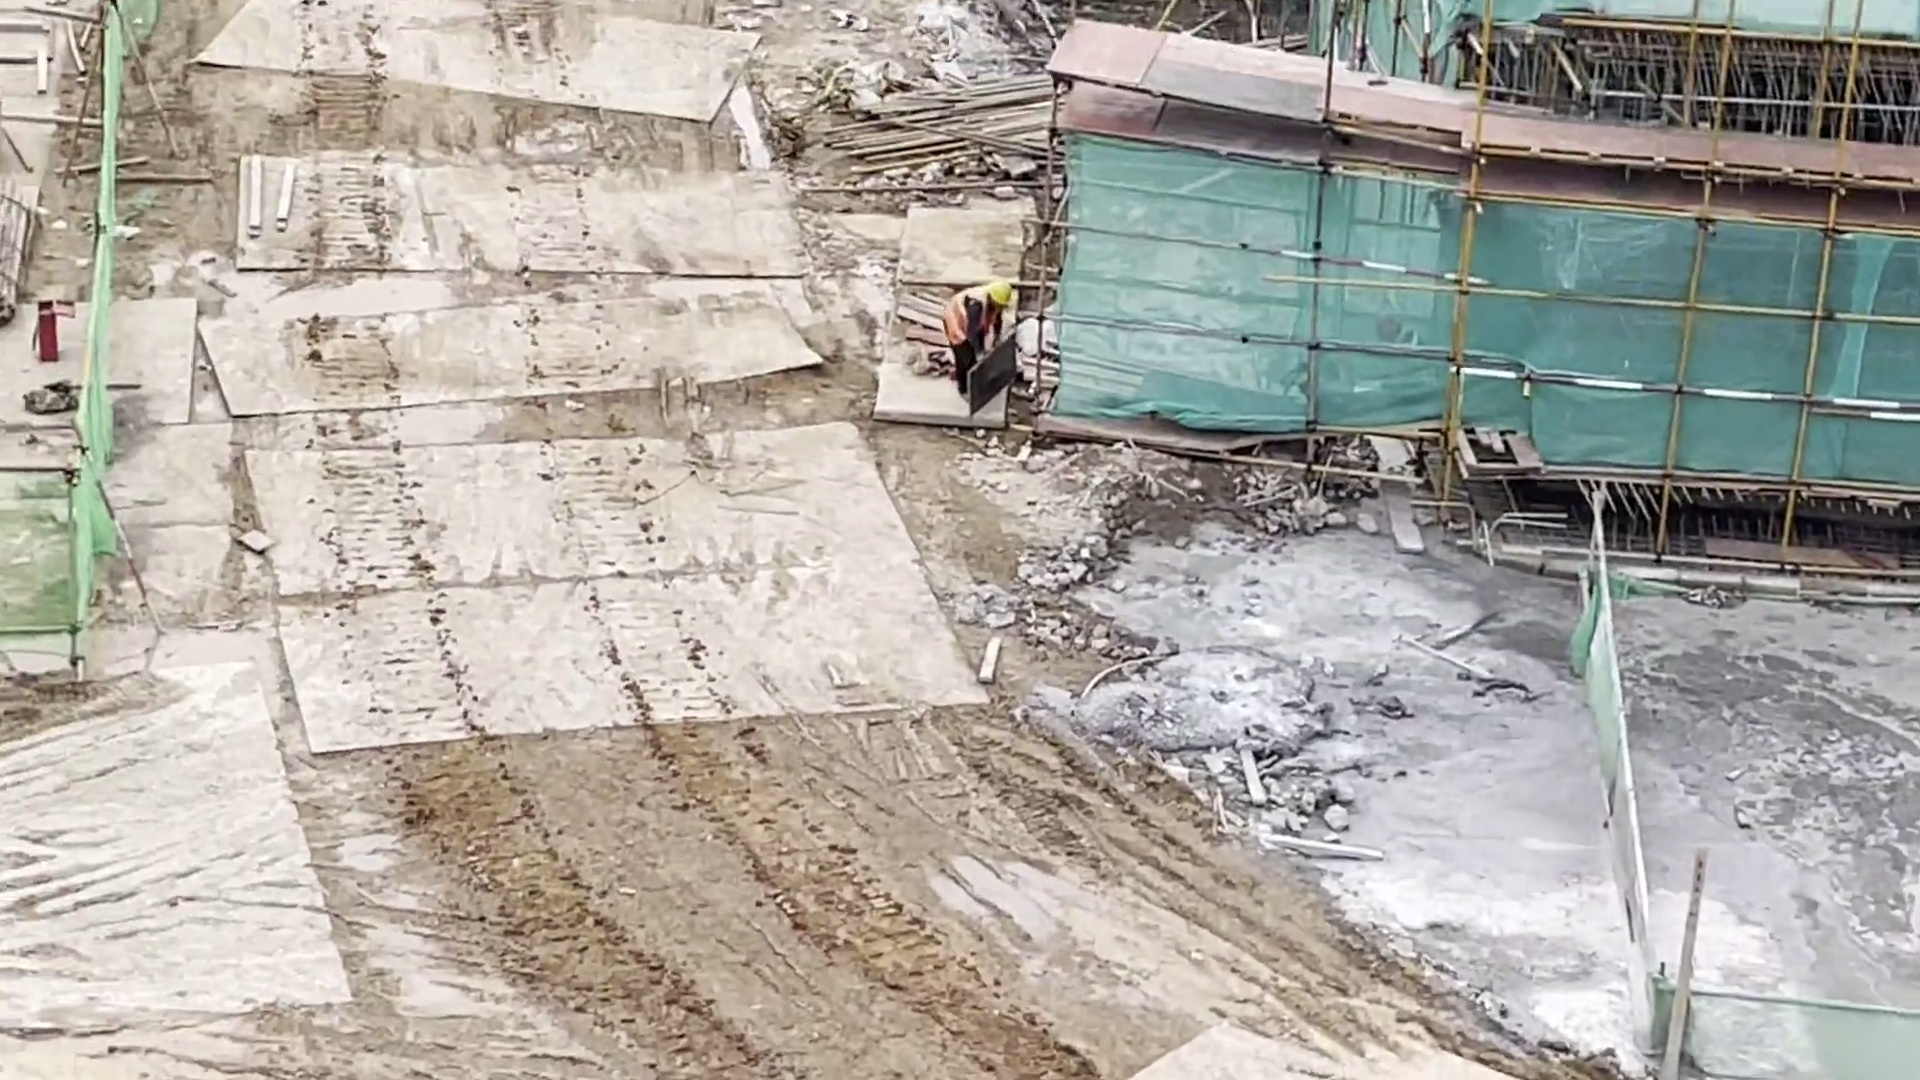helmet: (985, 283, 1005, 299)
person: (938, 281, 1012, 396)
vest: (945, 289, 999, 342)
